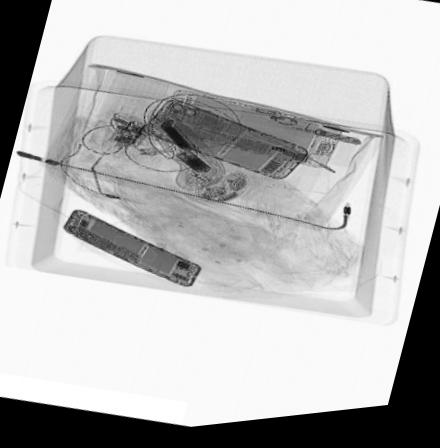Lighter: (265, 117, 350, 141)
